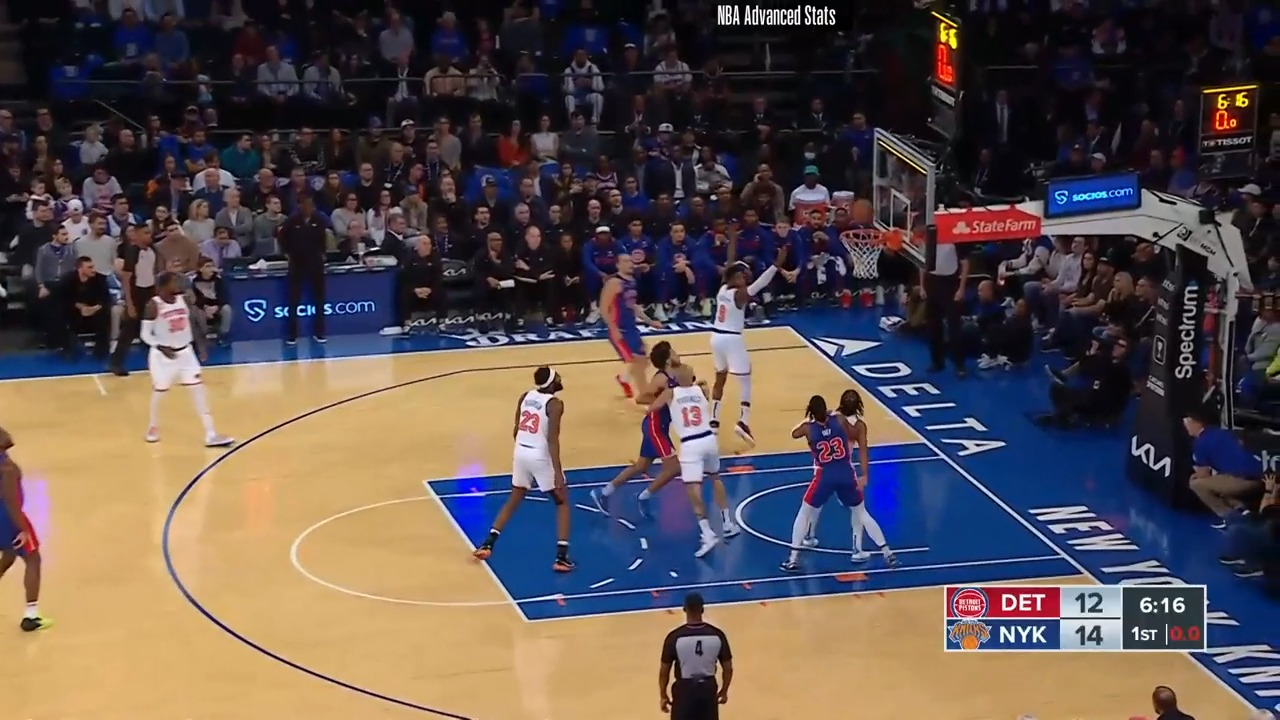net: (836, 218, 908, 283)
player: (475, 365, 585, 580), (779, 388, 902, 570), (643, 342, 739, 555), (137, 267, 226, 454), (590, 343, 682, 520), (0, 418, 57, 645), (589, 248, 653, 405), (702, 260, 759, 435)
referee: (654, 591, 741, 720), (103, 219, 171, 381), (918, 239, 977, 382)
